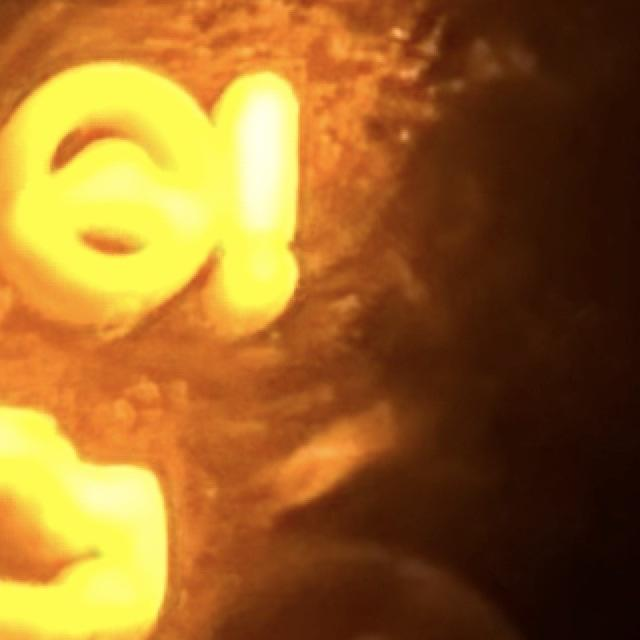Steering Wheel Locked: (1, 57, 301, 319)
